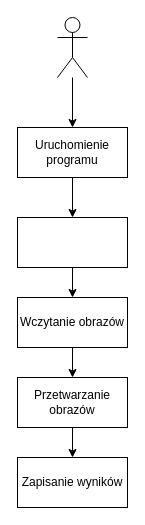
This 145x525 diagram has some shape labels left out. The shapes that lost their labels are listed below. From the top down, each one's centre as x and y in pixels, then its label:
At pixel 72 47: "Użytkownik".
At pixel 72 242: "Załadowanie pliku .ini".
